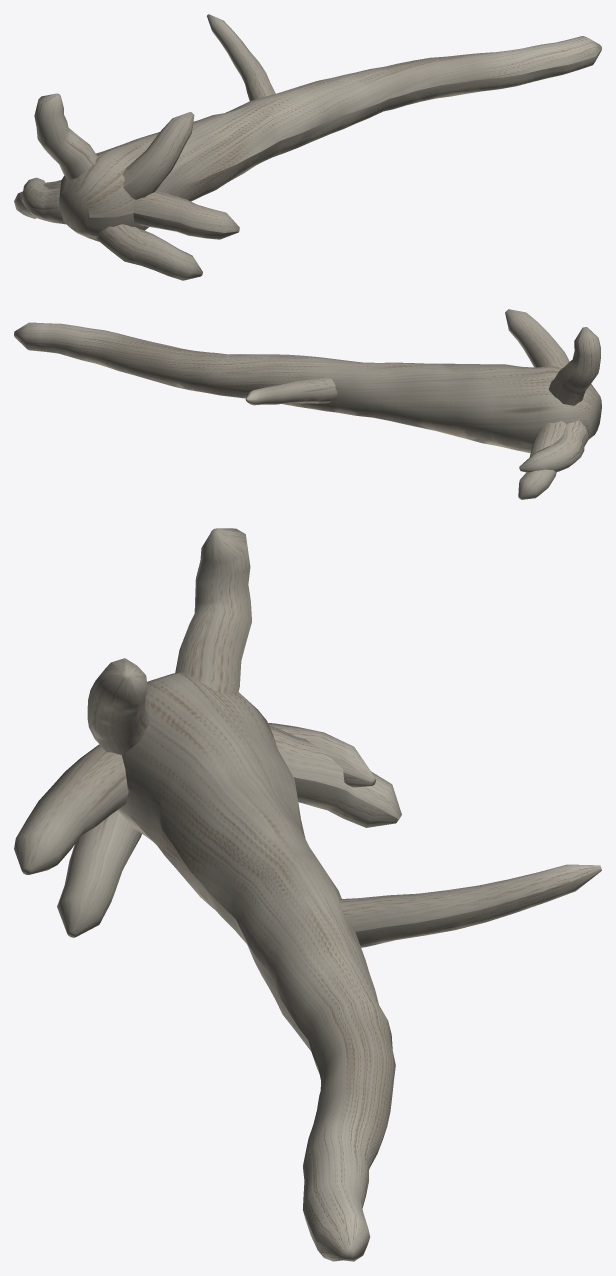
Rendered from Driftwood_B.gltf.
3 renders of one model, top to bottom at view 1: azimuth 30°, elevation 25°; view 2: azimuth 150°, elevation 25°; view 3: azimuth 270°, elevation 25°, orthographic. The views are drawn at different scales.
Visible parts, largest first — view 1: Driftwood_B; view 2: Driftwood_B; view 3: Driftwood_B.
Boxes of the visible parts, bbox=[...] form: Driftwood_B: bbox=[14, 14, 601, 280]; Driftwood_B: bbox=[14, 309, 601, 499]; Driftwood_B: bbox=[14, 528, 601, 1261].
Bounding box in the file's own units: 1.72 × 0.4943 × 0.82.
Materials: 1 (1 with a texture image).
